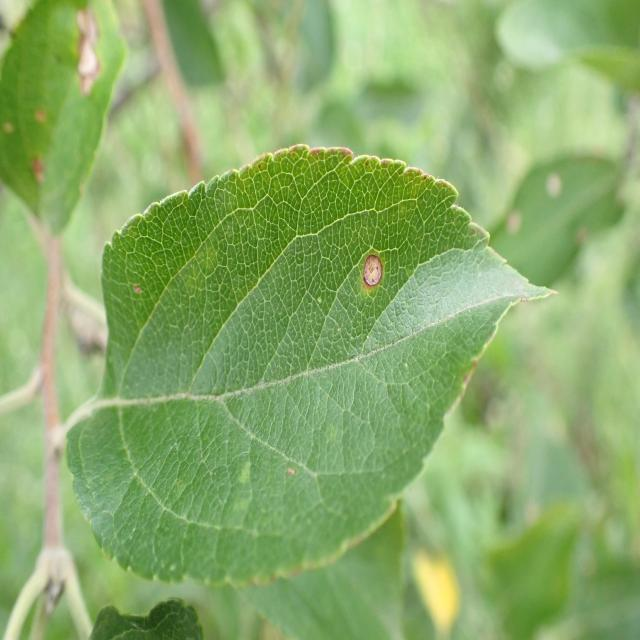Black Rot: (350, 243, 389, 300)
